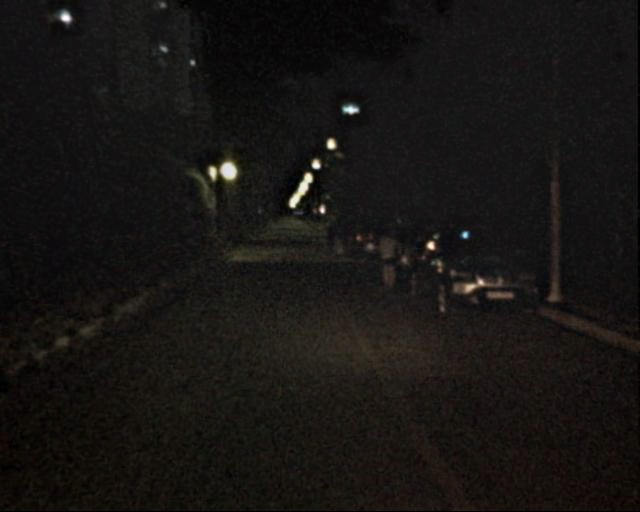person: (369, 225, 396, 292), (326, 216, 342, 254), (320, 222, 331, 248)
